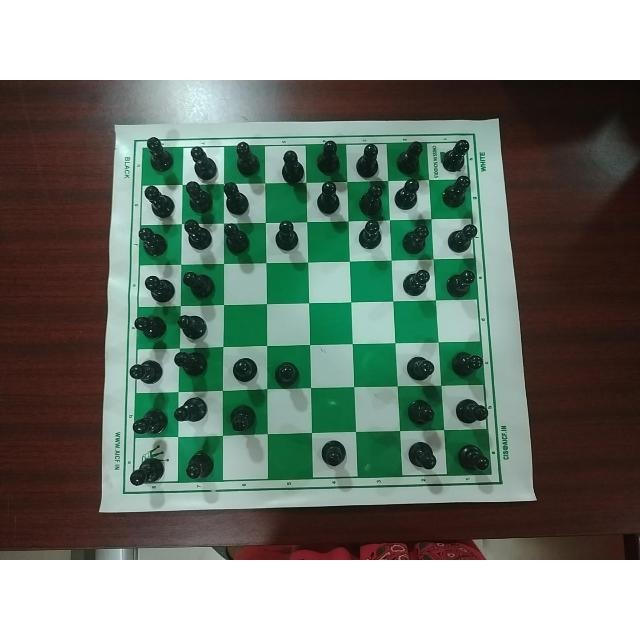black-pawn: (181, 266, 219, 304), (139, 136, 174, 173), (454, 441, 491, 475), (129, 454, 167, 487), (127, 354, 166, 386), (131, 404, 170, 436), (394, 139, 426, 177), (231, 138, 261, 178), (439, 138, 473, 173), (182, 448, 216, 483), (142, 184, 176, 219), (314, 140, 343, 180), (453, 396, 493, 425), (182, 218, 215, 253), (444, 264, 476, 300), (437, 176, 470, 210), (189, 143, 217, 183), (173, 395, 211, 424), (182, 181, 214, 215), (174, 349, 210, 379), (272, 220, 304, 253), (276, 147, 303, 186), (315, 181, 343, 218), (175, 312, 212, 340), (222, 222, 254, 254), (229, 402, 260, 435), (222, 181, 252, 215), (141, 273, 175, 303), (353, 142, 381, 178), (405, 396, 436, 428), (406, 438, 438, 469), (138, 226, 170, 257), (444, 223, 477, 252), (450, 348, 484, 376), (133, 313, 167, 341), (318, 438, 346, 471), (393, 180, 421, 212), (358, 185, 386, 217), (403, 267, 431, 298), (404, 354, 435, 382), (230, 356, 261, 384), (402, 223, 428, 256), (357, 219, 383, 251), (276, 358, 302, 389)
